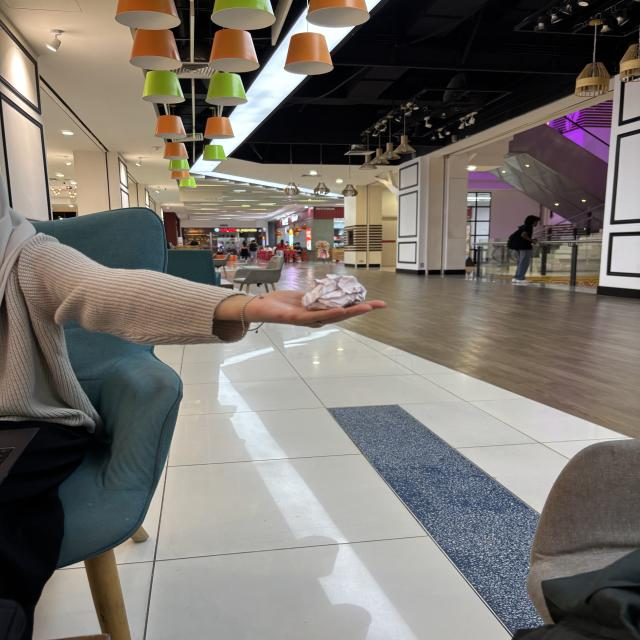crumpled_paper: (299, 271, 371, 313)
